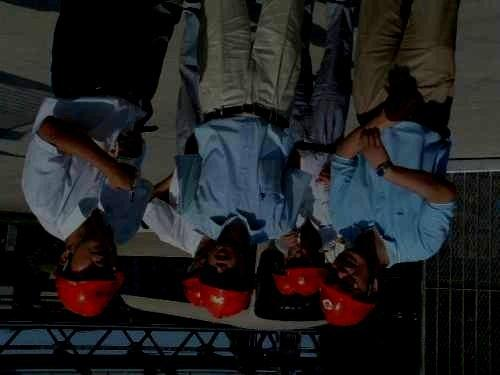helmet: (53, 230, 124, 319), (198, 231, 254, 320), (319, 249, 376, 327), (282, 235, 326, 295), (182, 238, 216, 310), (271, 254, 296, 295)
